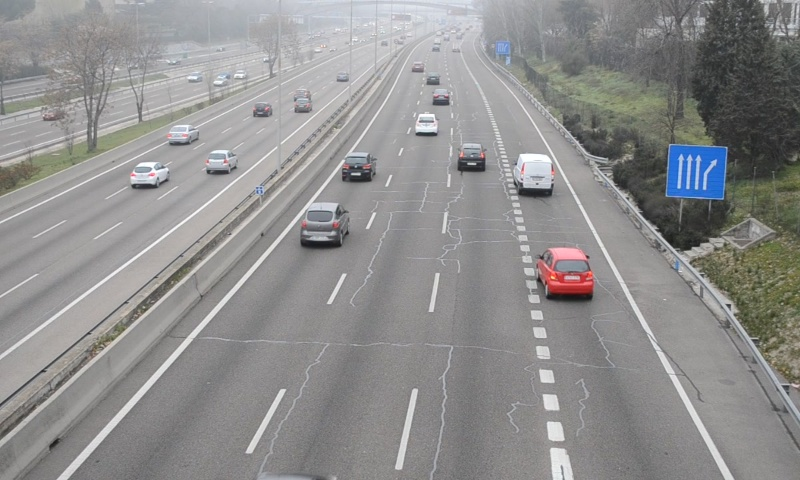car: (539, 248, 594, 297), (302, 202, 348, 245), (343, 152, 376, 180), (456, 142, 486, 172), (414, 111, 439, 136), (430, 88, 451, 104)
van: (514, 153, 556, 195)
